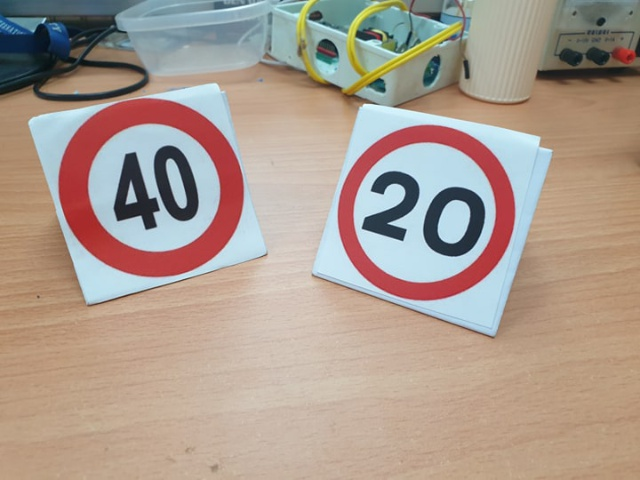Limit 20: (338, 126, 519, 308)
Limit 40: (59, 99, 247, 274)
